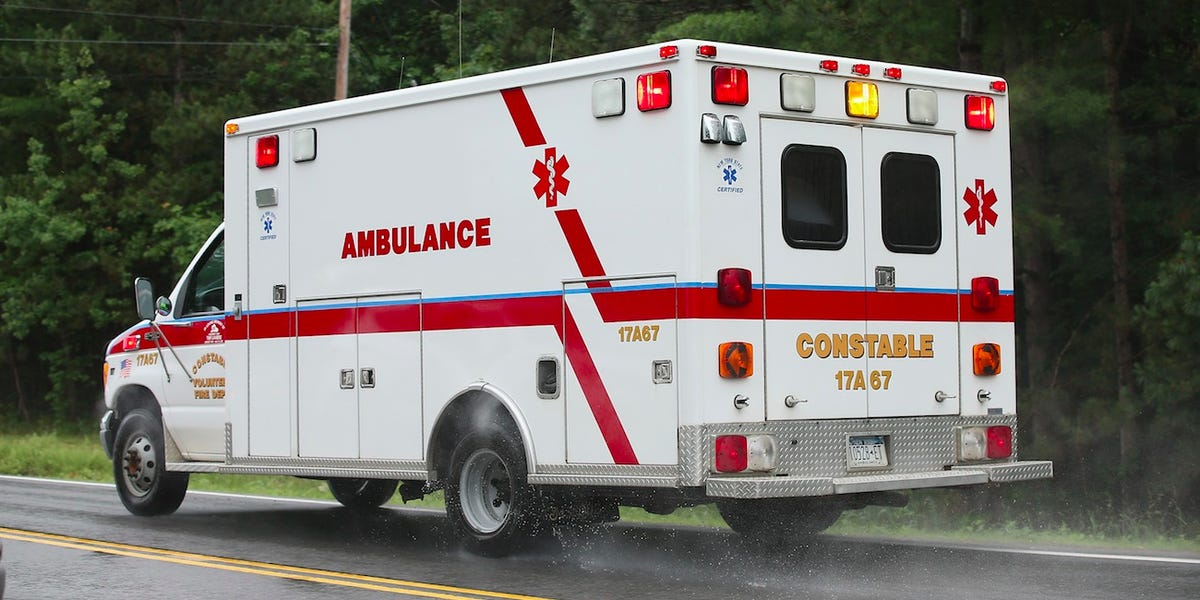special: (94, 36, 1053, 561)
